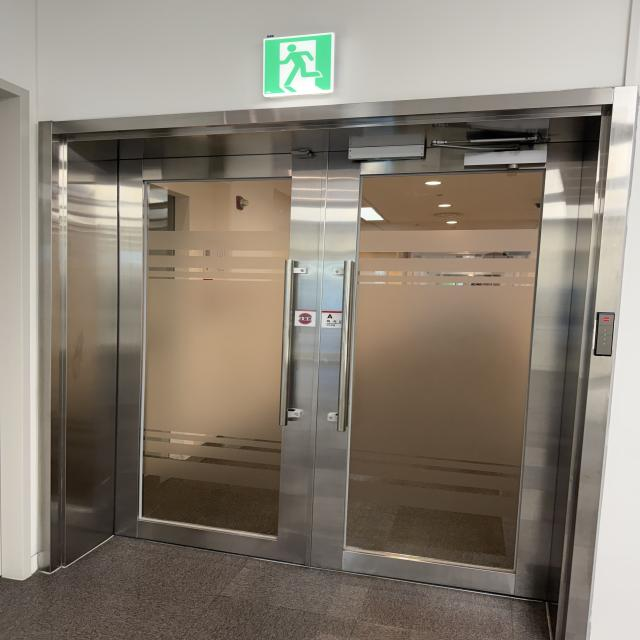rear_door: (65, 141, 567, 597)
